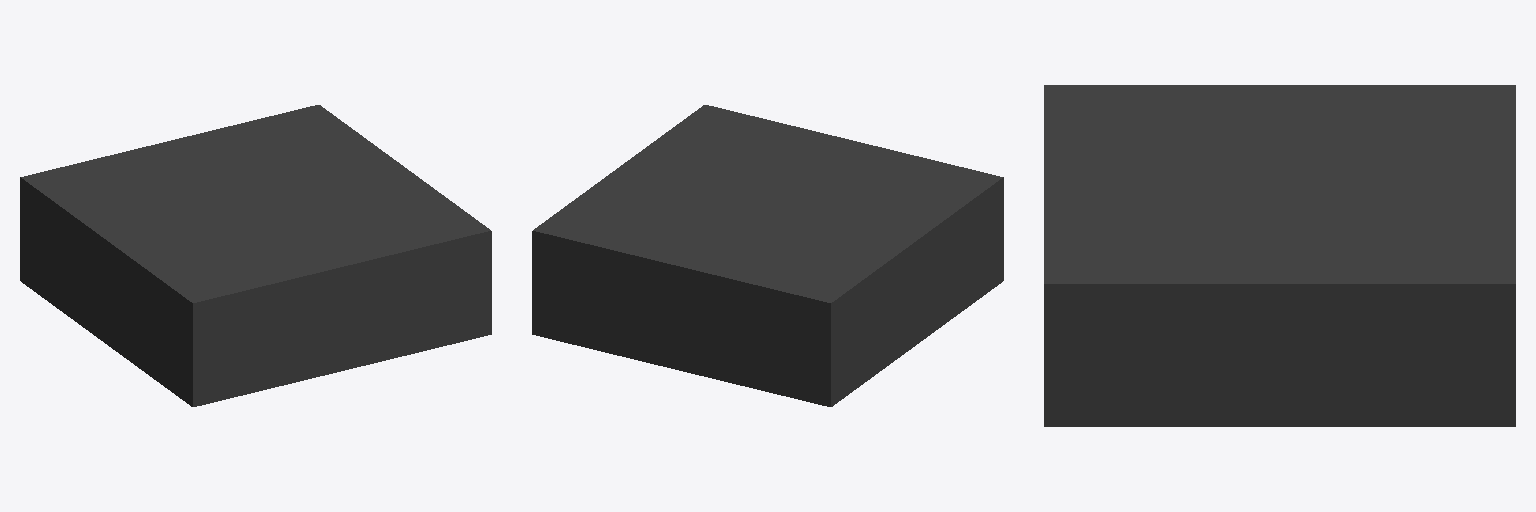
robot.urdf — visual:
<?xml version="1.0"?>
<robot name="visual">

  <material name="gray">
    <color rgba="0.3 0.3 0.3 1"/>
  </material>
  <material name="orange">
    <color rgba="0.8 0.084 0 1"/>
  </material>
  <material name="white">
    <color rgba="0.8 0.8 0.8 1"/>
  </material>

  <link name="base_link">
    <visual>
      <geometry>
        <box size="0.15 0.15 .05"/>
      </geometry>
      <material name="gray"/> 
      <origin rpy="0 0 0" xyz="0 0 -0.025"/>
    </visual>
  </link>

  <link name="link1">
    <visual>
      <geometry>
        <mesh filename="package://robot_urdf/meshes2/base.stl" scale="1 1 1"/>
      </geometry>
      <material name="orange"/> 
    </visual>
  </link>

  <link name="link2">
    <visual>
      <geometry>
        <mesh filename="package://robot_urdf/meshes2/shoulder.stl" scale="1 1 1"/>
      </geometry>
      <material name="orange"/>
      <origin rpy="0 0 0" xyz="0 0 -0.0505"/> 
    </visual>
  </link>

  <link name="link3">
    <visual>
      <geometry>
        <mesh filename="package://robot_urdf/meshes2/elbow.stl" scale="1 1 1"/>
      </geometry>
      <material name="orange"/>
      <origin rpy="0 0 0" xyz="0 0 -0.1705"/> 
    </visual>
  </link>

  <link name="link4">
    <visual>
      <geometry>
        <mesh filename="package://robot_urdf/meshes2/wrist_pitch.stl" scale="1 1 1"/>
      </geometry>
      <material name="orange"/>
      <origin rpy="0 0 0" xyz="0 0 -0.2905"/> 
    </visual>
  </link>
  
  <link name="link5">
    <visual>
      <geometry>
        <mesh filename="package://robot_urdf/meshes2/wrist_roll.stl" scale="1 1 1"/>
      </geometry>
      <material name="white"/>
      <origin rpy="0 0 0" xyz="0 0 -0.3505"/> 
    </visual>
  </link>

  <link name="gripper_base">
    <visual>
      <geometry>
        <mesh filename="package://robot_urdf/meshes2/gripper_base.stl" scale="1 1 1"/>
      </geometry>
      <material name="white"/>
      <origin rpy="0 0 0" xyz="0 0 -0.357"/> 
    </visual>
  </link>

  <link name="gripper_fix">
    <visual>
      <geometry>
        <mesh filename="package://robot_urdf/meshes2/gripper_fix.stl" scale="1 1 1"/>
      </geometry>
      <material name="white"/>
      <origin rpy="0 0 0" xyz="0 0 -0.36399"/> 
    </visual>
  </link>

  <link name="gripper_movable">
    <visual>
      <geometry>
        <mesh filename="package://robot_urdf/meshes2/gripper_movable.stl" scale="1 1 1"/>
      </geometry>
      <material name="white"/>
      <origin rpy="0 0 0" xyz="-0.01559 0 -0.36399"/> 
    </visual>
  </link>

  <joint name="base" type="revolute">
    <axis xyz="0 0 -1"/>
    <limit effort="1000.0" lower="0.0" upper="3.141592653589793" velocity="4.0"/>
    <origin rpy="0 0 0" xyz="0 0 0"/>
    <parent link="base_link"/>
    <child link="link1"/>
  </joint>

  <joint name="shoulder" type="revolute">
    <axis xyz="1 0 0"/>
    <limit effort="1000.0" lower="0.2617993877991494" upper="2.8797932657906435" velocity="4.0"/>
    <origin rpy="-1.5707963267948966 0 0" xyz="0 0 0.0505"/>   
    <parent link="link1"/>
    <child link="link2"/>
  </joint>

   <joint name="elbow" type="revolute">
    <axis xyz="1 0 0"/>
    <limit effort="1000.0" lower="0" upper="3.141592653589793" velocity="4.0"/>
    <origin rpy="-1.5707963267948966 0 0" xyz="0 0 0.1205"/>
    <parent link="link2"/>
    <child link="link3"/>
  </joint>

  <joint name="wrist_pitch" type="revolute">
    <axis xyz="1 0 0"/>
    <limit effort="1000.0" lower="0" upper="3.141592653589793" velocity="4.0"/>
    <origin rpy="-1.5707963267948966 0 0" xyz="0 0 0.1205"/>
    <parent link="link3"/>
    <child link="link4"/>
  </joint>

  <joint name="wrist_roll" type="revolute">
    <axis xyz="0 0 -1"/>
    <limit effort="1000.0" lower="0.0" upper="3.141592653589793" velocity="4.0"/>
    <origin rpy="0 0 0" xyz="0 0.0 0.06"/>
    <parent link="link4"/>
    <child link="link5"/>
  </joint>

  <joint name="gripper_base" type="fixed">
    <origin rpy="0 0 0" xyz="0 0.0 0.0065"/>
    <parent link="link5"/>
    <child link="gripper_base"/>
  </joint>

  <joint name="gripper_fix" type="fixed">
    <origin rpy="0 0 0" xyz="0 0.0 0.007"/>
    <parent link="gripper_base"/>
    <child link="gripper_fix"/>
  </joint>

  <joint name="gripper_movable" type="revolute">
    <axis xyz="0 -1 0"/>
    <limit effort="1000.0" lower="0.17453292519943295" upper="1.2740903539558606" velocity="4.0"/>
    <origin rpy="0 0 0" xyz="0.01559 0 0.007"/>
    <parent link="gripper_base"/>
    <child link="gripper_movable"/>
  </joint>
  
</robot>

--- Facts derived from the render (not from the file) ---
Views: 3 orthographic renders of the robot side by side, from view 1: azimuth 30°, elevation 25°; view 2: azimuth 150°, elevation 25°; view 3: azimuth 270°, elevation 25°.
Robot: visual — 9 links, 8 joints (6 revolute, 2 fixed); root link base_link; default pose: joints at zero except 2 at the middle of their limits (shoulder = 1.57, gripper_movable = 0.7243).
Links seen in each view (by area): view 1: base_link; view 2: base_link; view 3: base_link.
Link boxes in pixels (x1,y1,x2,y2): base_link: [20, 105, 491, 406]; base_link: [532, 105, 1003, 406]; base_link: [1044, 85, 1515, 426].
Bounding box of the posed robot: 0.15 × 0.15 × 0.05 m (x, y, z).
Meshes: 8 distinct files referenced, 0 mesh visuals loaded (none loaded); not drawn: 8 (reference not matched to a file when rendering).